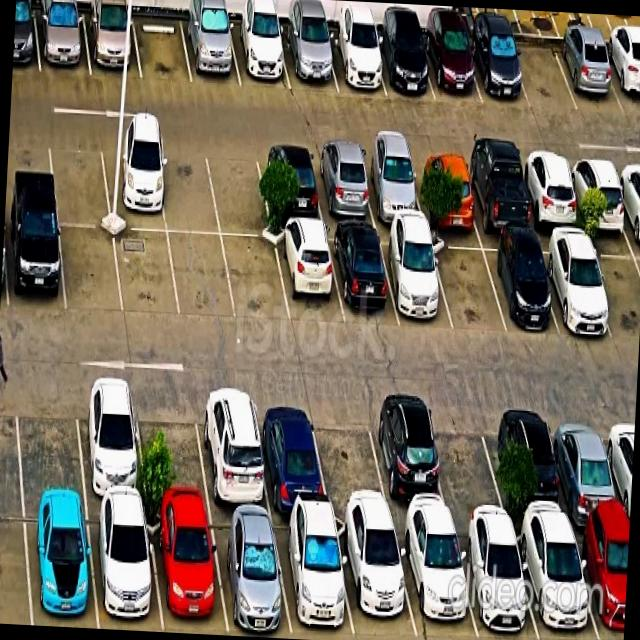car: (21, 517, 94, 628), (150, 520, 220, 635), (218, 524, 286, 638), (194, 418, 265, 525), (281, 526, 346, 640), (344, 533, 413, 640), (90, 520, 155, 632), (76, 413, 145, 516), (526, 536, 594, 640), (407, 532, 472, 640), (374, 417, 439, 522), (262, 424, 322, 533), (469, 533, 530, 640), (498, 414, 556, 522), (553, 240, 612, 344), (555, 425, 615, 524), (389, 234, 448, 330), (497, 239, 554, 337), (103, 134, 165, 224), (420, 143, 474, 240), (277, 230, 336, 318), (474, 152, 528, 248), (338, 228, 392, 324), (258, 144, 319, 228), (574, 157, 626, 252), (524, 157, 576, 251), (7, 225, 64, 310), (379, 8, 431, 100), (185, 0, 238, 90), (560, 12, 612, 102), (333, 1, 382, 96), (476, 9, 524, 104), (285, 0, 335, 90), (428, 12, 478, 102), (235, 0, 286, 87), (365, 148, 417, 232), (318, 146, 368, 226), (87, 0, 137, 73), (39, 0, 86, 74)
free: (15, 399, 84, 513), (140, 413, 204, 518), (316, 425, 384, 523), (434, 419, 496, 521), (438, 245, 501, 333), (115, 225, 173, 313), (162, 141, 216, 235), (61, 230, 120, 314), (48, 144, 107, 226), (216, 143, 270, 232), (224, 233, 280, 317), (135, 0, 190, 85), (516, 21, 569, 105), (172, 230, 226, 310)
